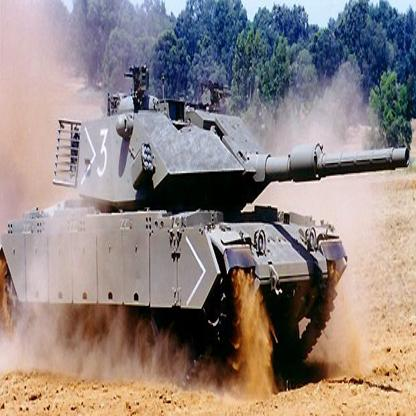Tank: (1, 70, 412, 384)
